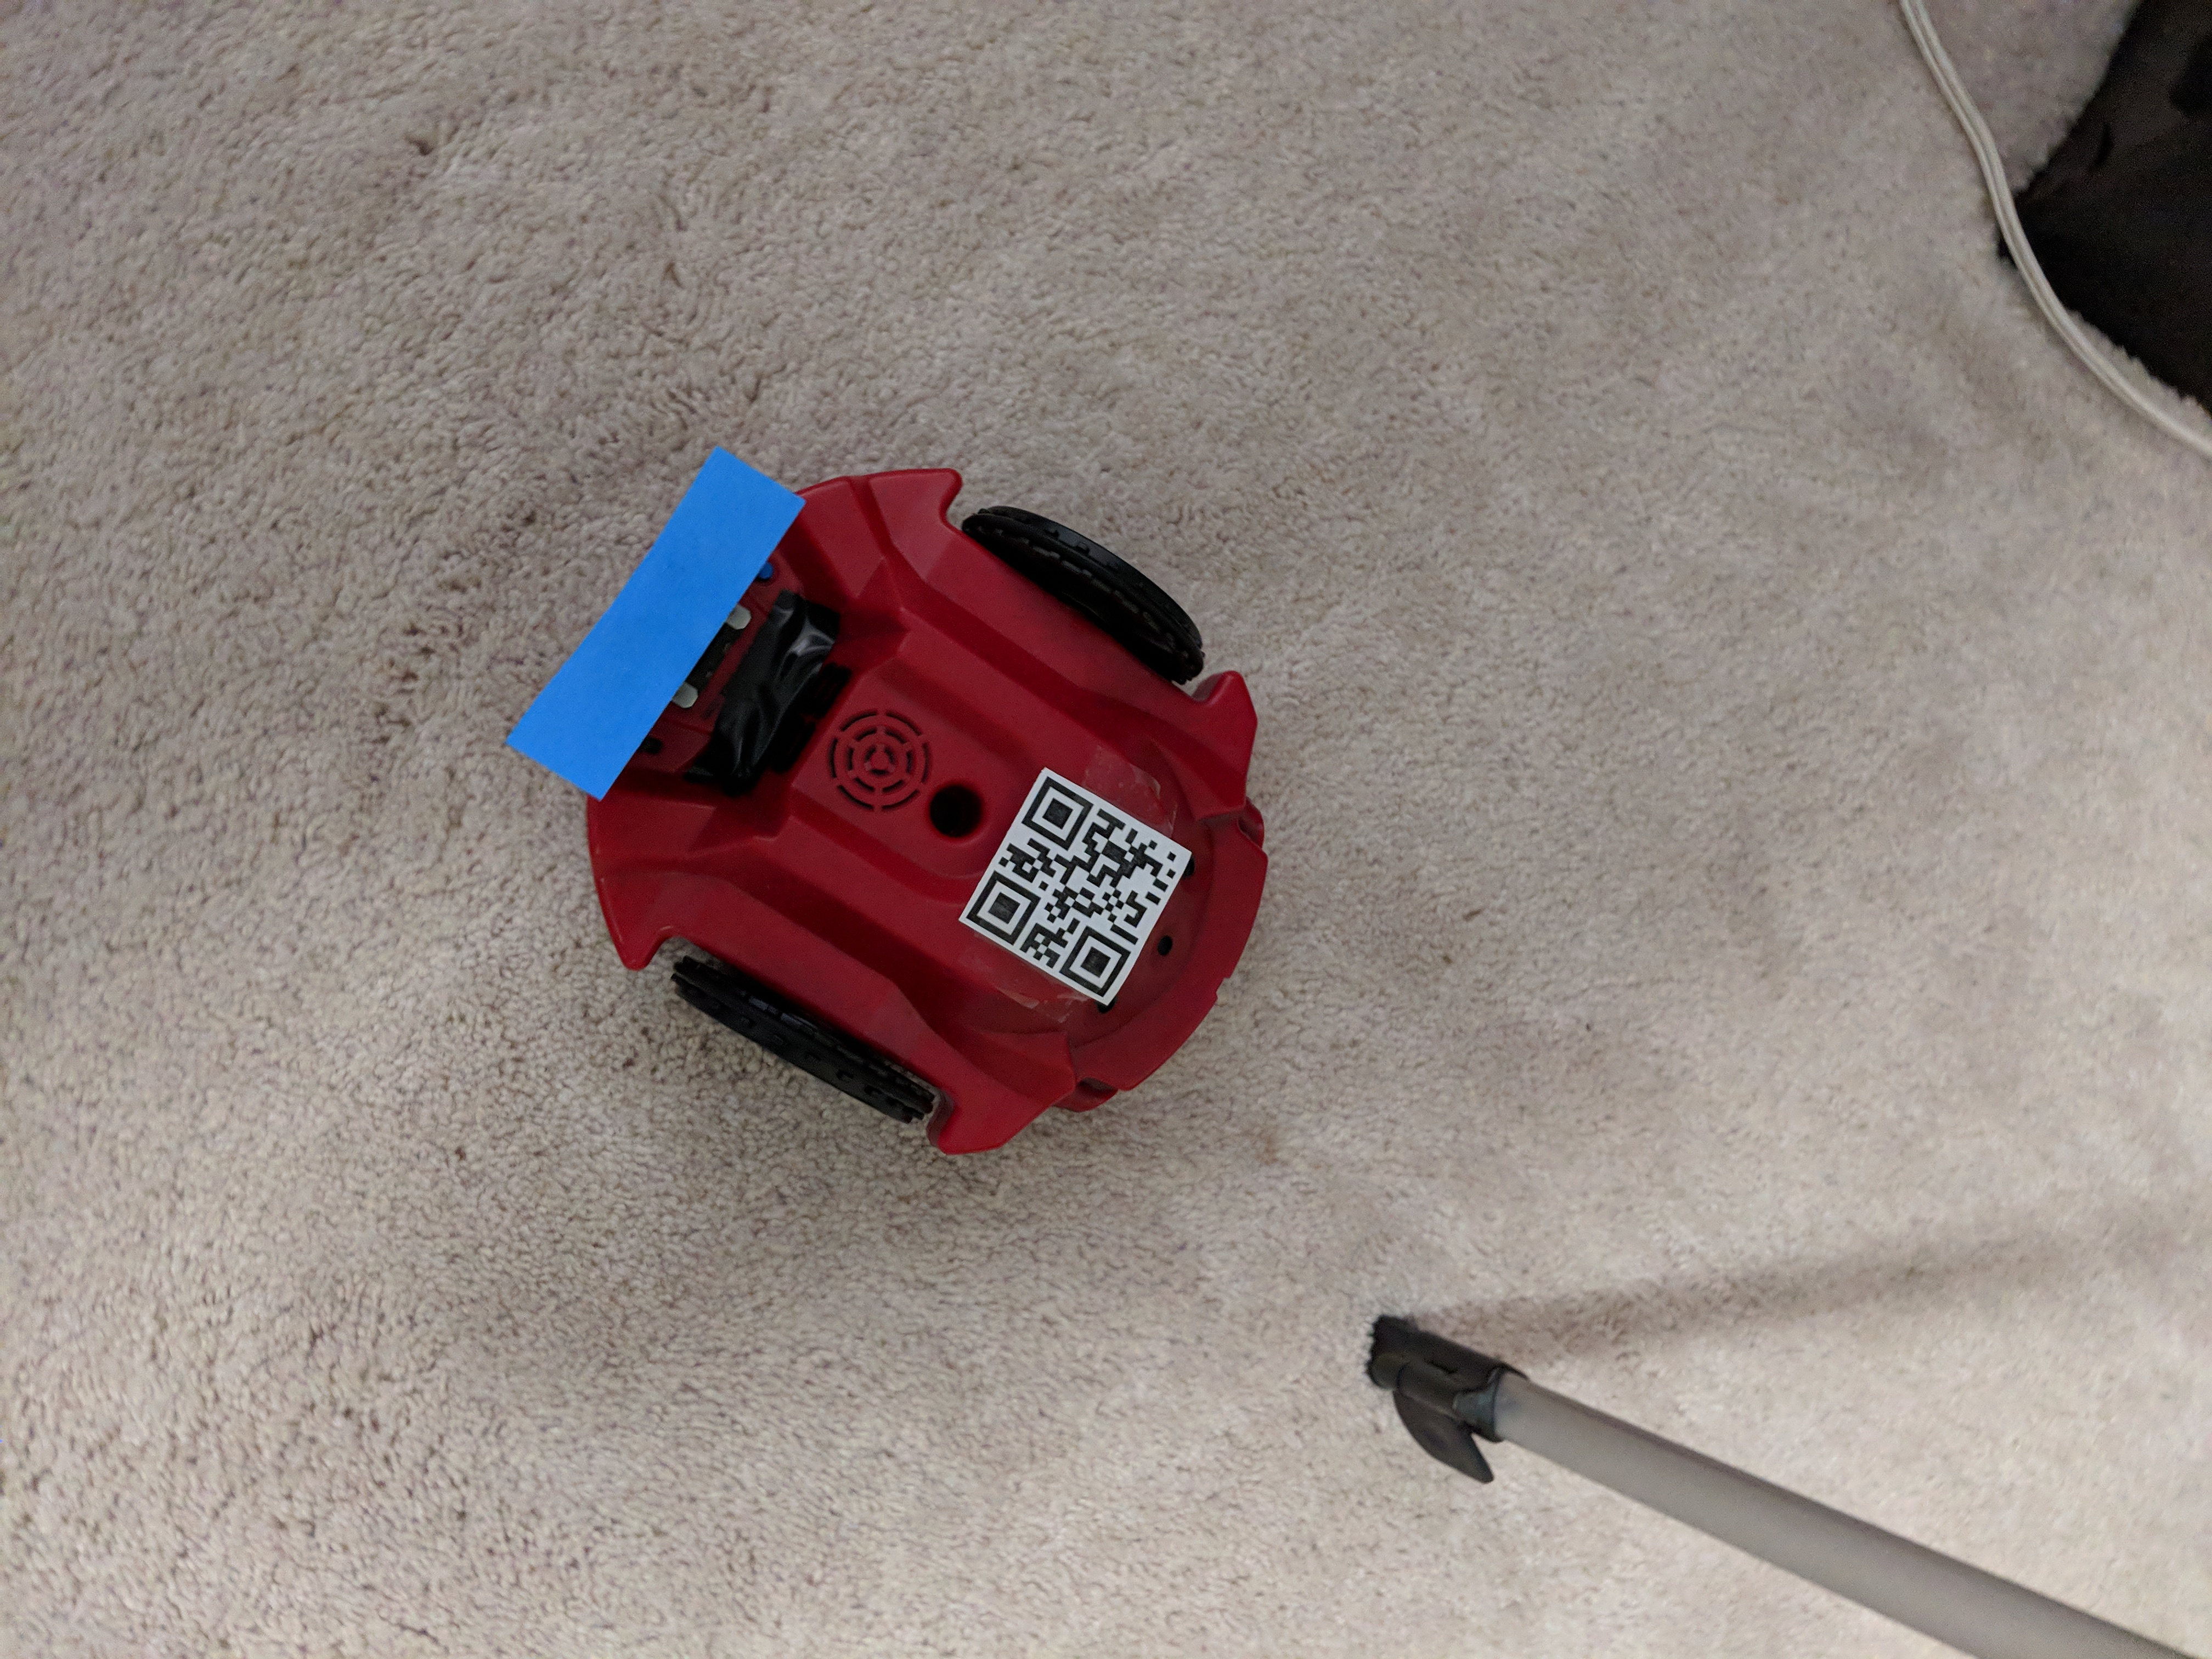chassis: (509, 444, 1303, 1161)
qr: (951, 765, 1191, 1019)
